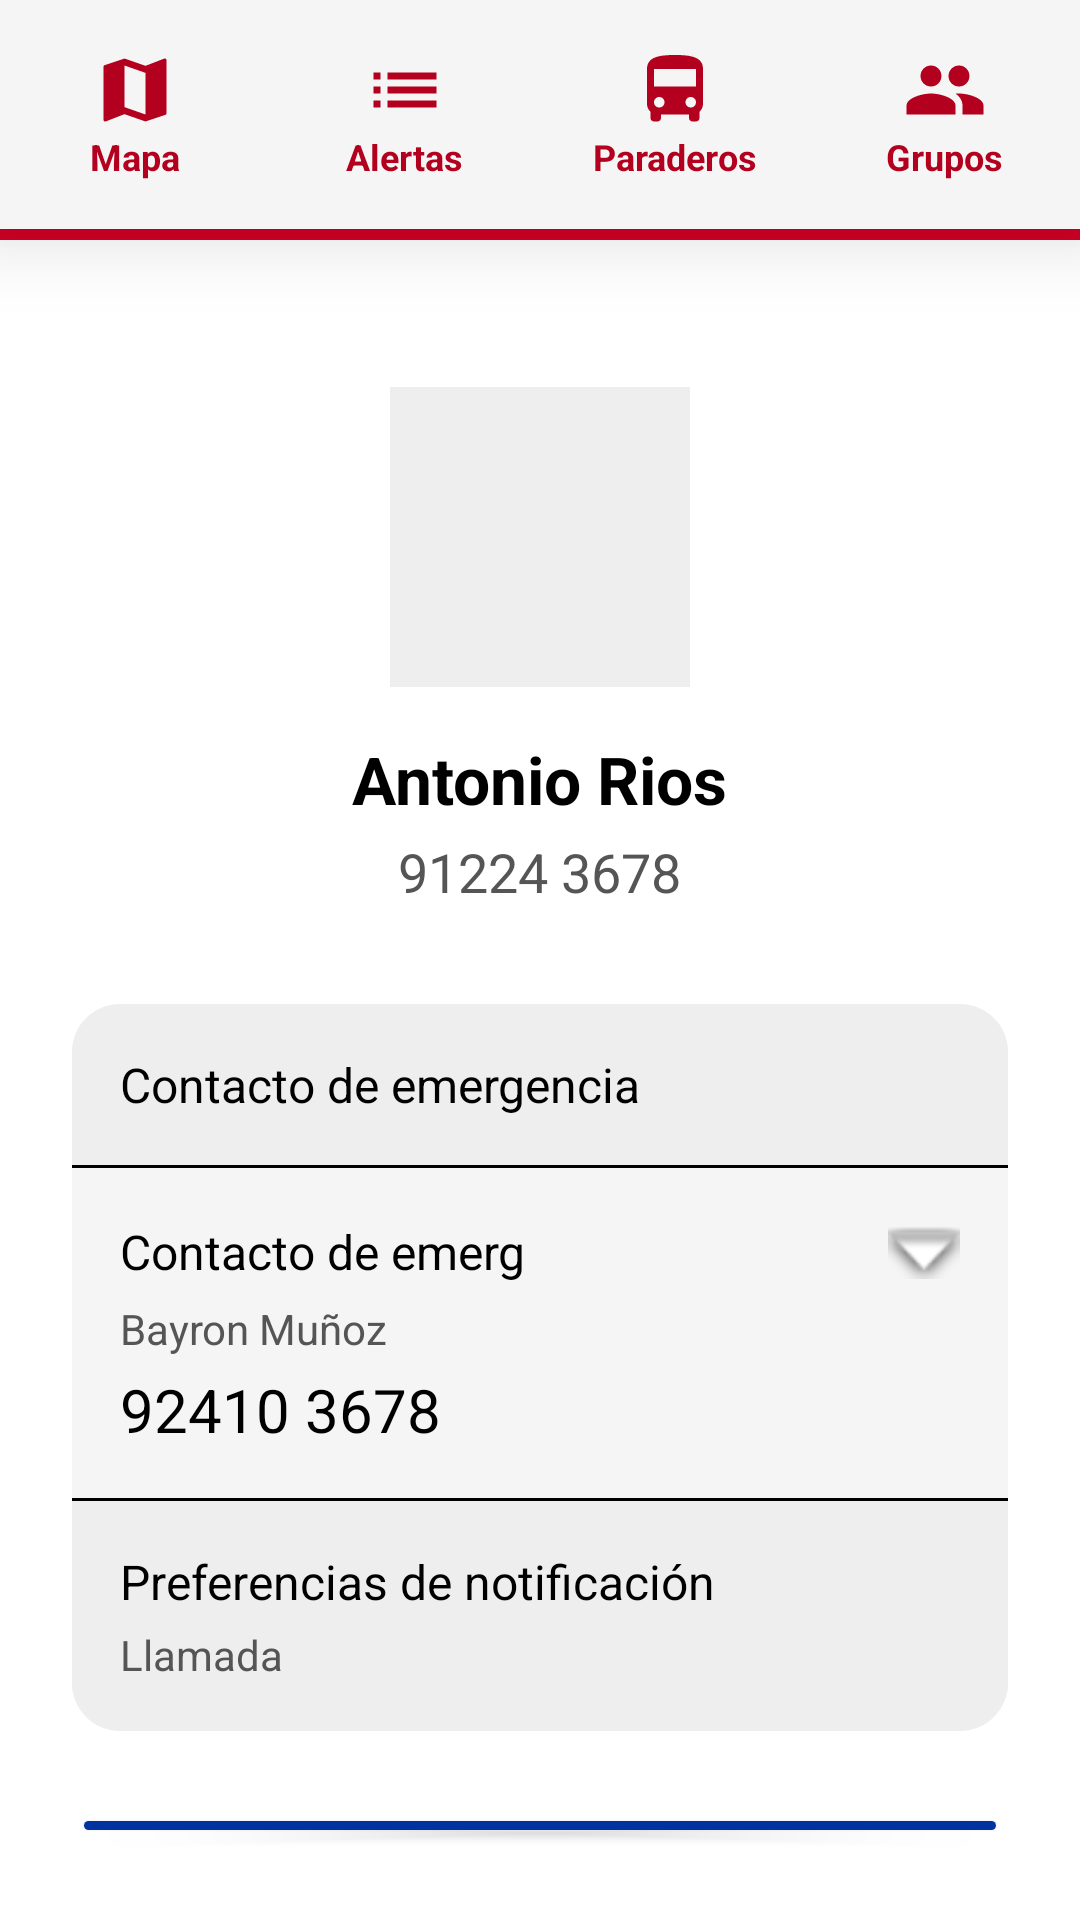

Where to tap for icons on this 1080px×1920px app screen, as (x,y):
arrow down float: (924,1252)
bus: (675,88)
list: (405,90)
